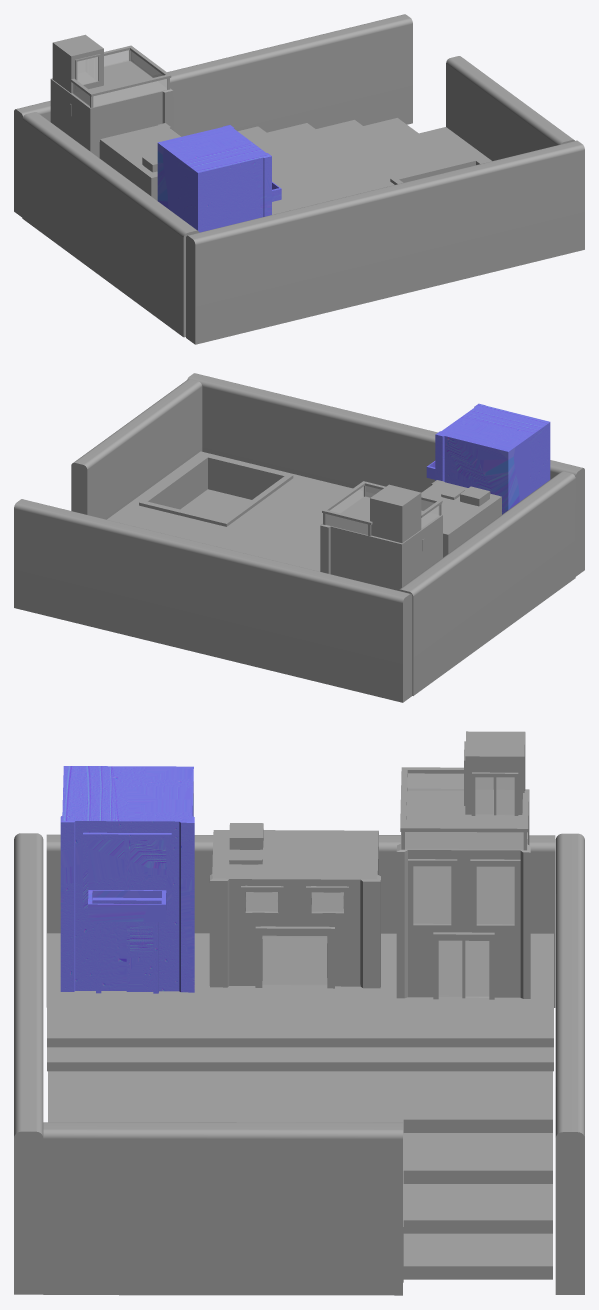
The model's file is Full Resort Unity build.fbx.
3 views of the same model, one above another, from view 1: azimuth 30°, elevation 25°; view 2: azimuth 150°, elevation 25°; view 3: azimuth 270°, elevation 25° (orthographic). The views are drawn at different scales.
Visible parts, largest first — view 1: pCube20, pCube19, pCube21, Poolsite, pCube22, resort_house_1, pCube5, Stairway, House_nr_2, roos, lil_terrace_building, glass_fence_3 (+1 smaller); view 2: pCube19, pCube21, pCube20, Poolsite, pCube22, pCube5, resort_house_1, House_nr_2, roos, lil_terrace_building, glass_fence_4; view 3: pCube22, Upper_floor, Stairway, House_nr_2, Poolsite, pCube5, resort_house_1, pCube20, pCube19, pCube21, roos, windw_1st_building (+12 smaller).
Boxes of the visible parts, left/top/right/bottom form: pCube20: left=186, top=140, right=584, bottom=344; pCube19: left=14, top=14, right=412, bottom=217; pCube21: left=22, top=112, right=199, bottom=337; Poolsite: left=272, top=127, right=491, bottom=209; pCube22: left=446, top=56, right=574, bottom=160; resort_house_1: left=157, top=125, right=281, bottom=232; pCube5: left=50, top=61, right=173, bottom=157; Stairway: left=238, top=118, right=418, bottom=168; House_nr_2: left=99, top=123, right=180, bottom=200; roos: left=157, top=125, right=269, bottom=172; lil_terrace_building: left=52, top=34, right=103, bottom=93; glass_fence_3: left=93, top=78, right=167, bottom=107; pCube19: left=14, top=499, right=412, bottom=702; pCube21: left=398, top=471, right=575, bottom=695; pCube20: left=187, top=373, right=584, bottom=576; Poolsite: left=107, top=451, right=352, bottom=567; pCube22: left=71, top=379, right=202, bottom=519; pCube5: left=320, top=496, right=442, bottom=590; resort_house_1: left=426, top=403, right=550, bottom=514; House_nr_2: left=421, top=480, right=501, bottom=557; roos: left=437, top=404, right=549, bottom=451; lil_terrace_building: left=370, top=484, right=421, bottom=542; glass_fence_4: left=325, top=514, right=367, bottom=535; pCube22: left=43, top=1122, right=402, bottom=1295; Upper_floor: left=47, top=933, right=553, bottom=1071; Stairway: left=403, top=1071, right=552, bottom=1279; House_nr_2: left=209, top=823, right=380, bottom=988; Poolsite: left=48, top=1071, right=403, bottom=1282; pCube5: left=396, top=789, right=530, bottom=999; resort_house_1: left=60, top=781, right=194, bottom=993; pCube20: left=14, top=833, right=43, bottom=1294; pCube19: left=555, top=833, right=584, bottom=1294; pCube21: left=46, top=834, right=555, bottom=1007; roos: left=62, top=766, right=193, bottom=821; windw_1st_building: left=88, top=839, right=166, bottom=890.
Bounding box in the file's own units: 166 × 72.09 × 133.
Materials: 6 (1 with a texture image).
